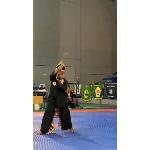Celurit: (54, 48, 72, 74)
